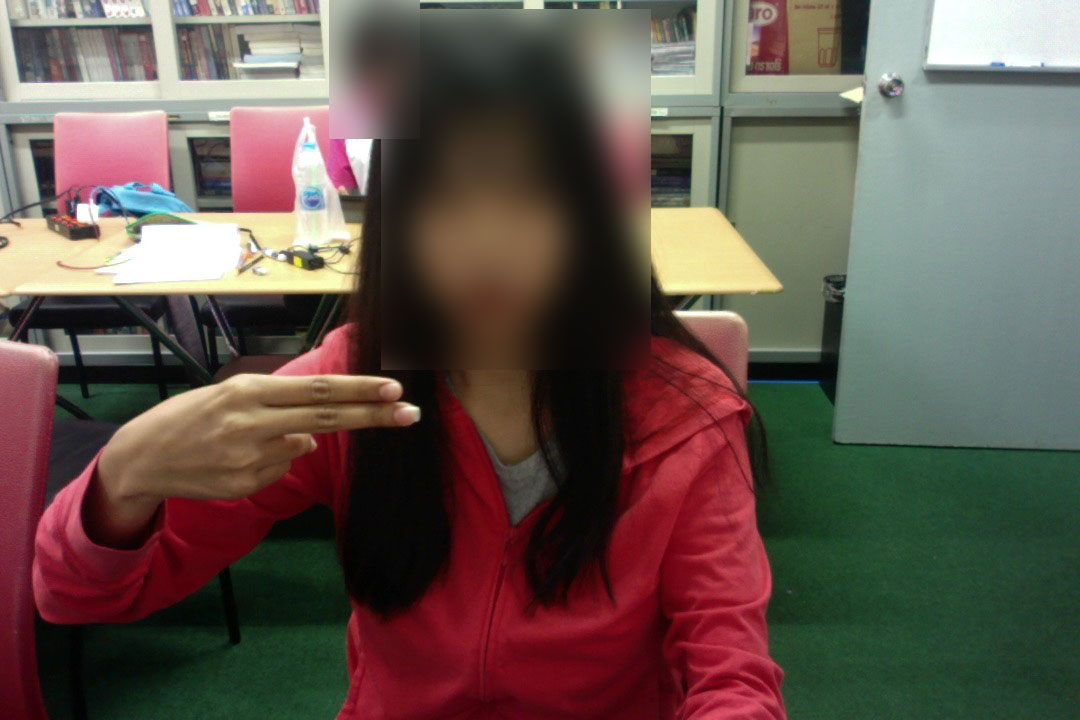hor: (67, 360, 431, 510)
